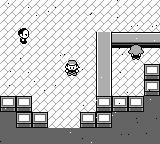main: (65, 60, 80, 76)
no-caminable: (0, 95, 159, 143), (80, 93, 144, 128), (0, 96, 48, 127), (96, 32, 112, 95), (112, 33, 159, 48), (143, 63, 160, 96)
npc: (128, 45, 144, 59), (18, 28, 30, 43)
